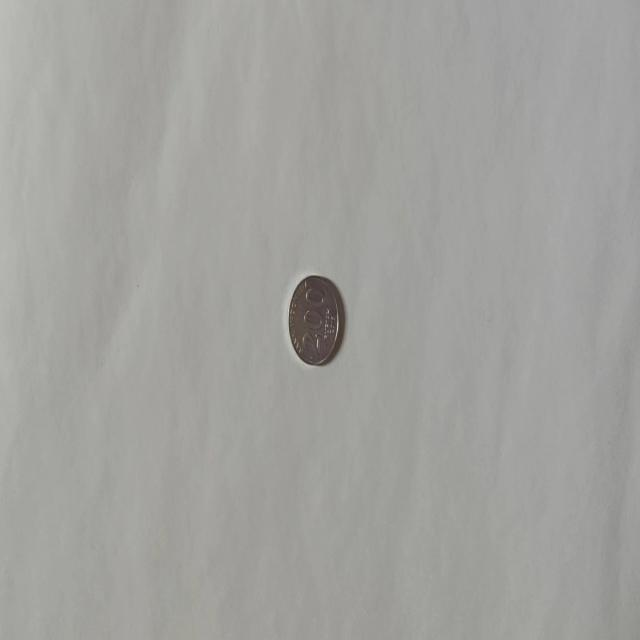dua ratus rupiah: (286, 272, 340, 366)
